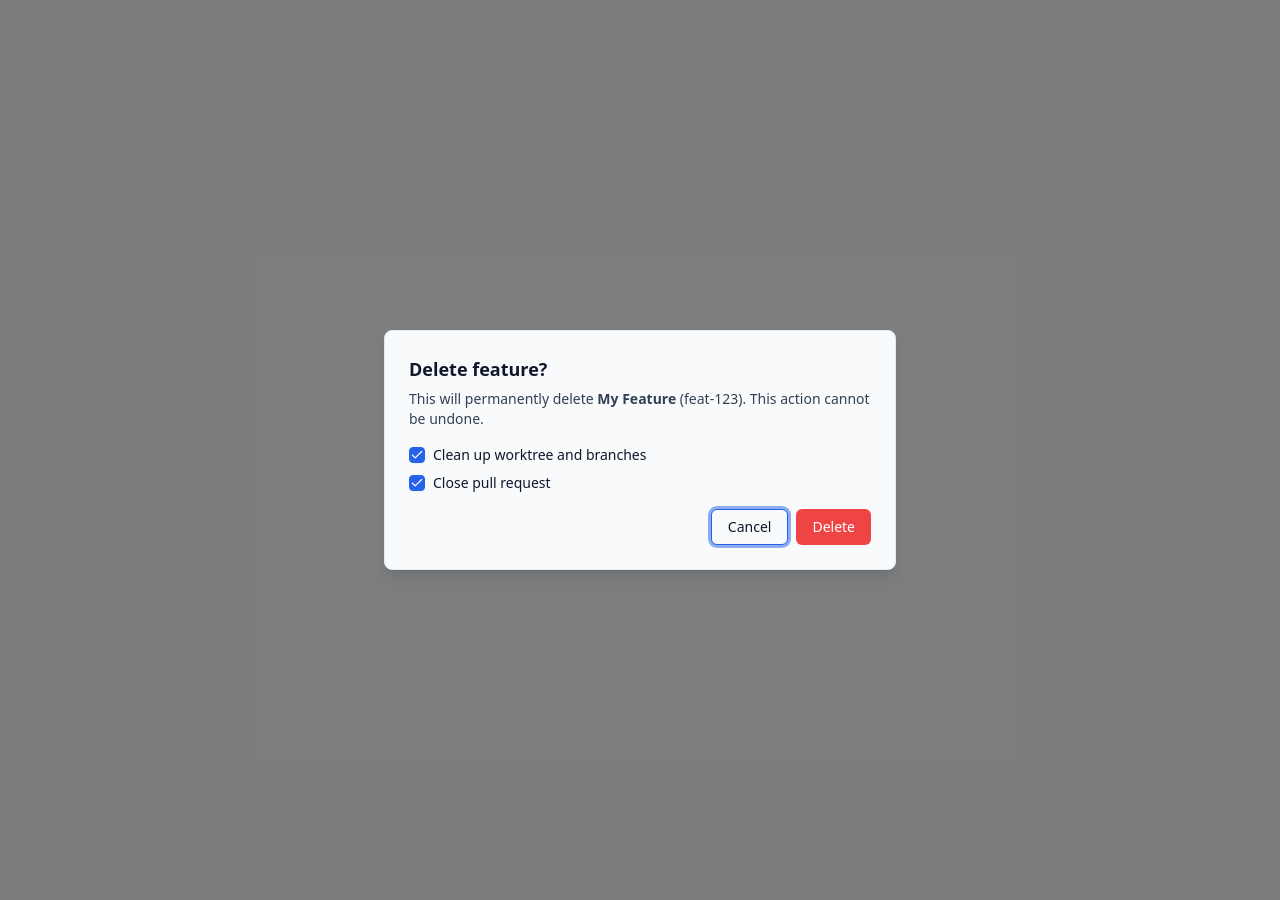
DeleteFeatureDialog › close PR checkbox › close-PR checkbox should re-enable and re-check when cleanup is re-checked
The width and height of the screenshot is (1280, 900).
Note: Uncheck cleanup
Click the checkbox named "clean up worktree and branches": (417, 455) [409,447,425,463]
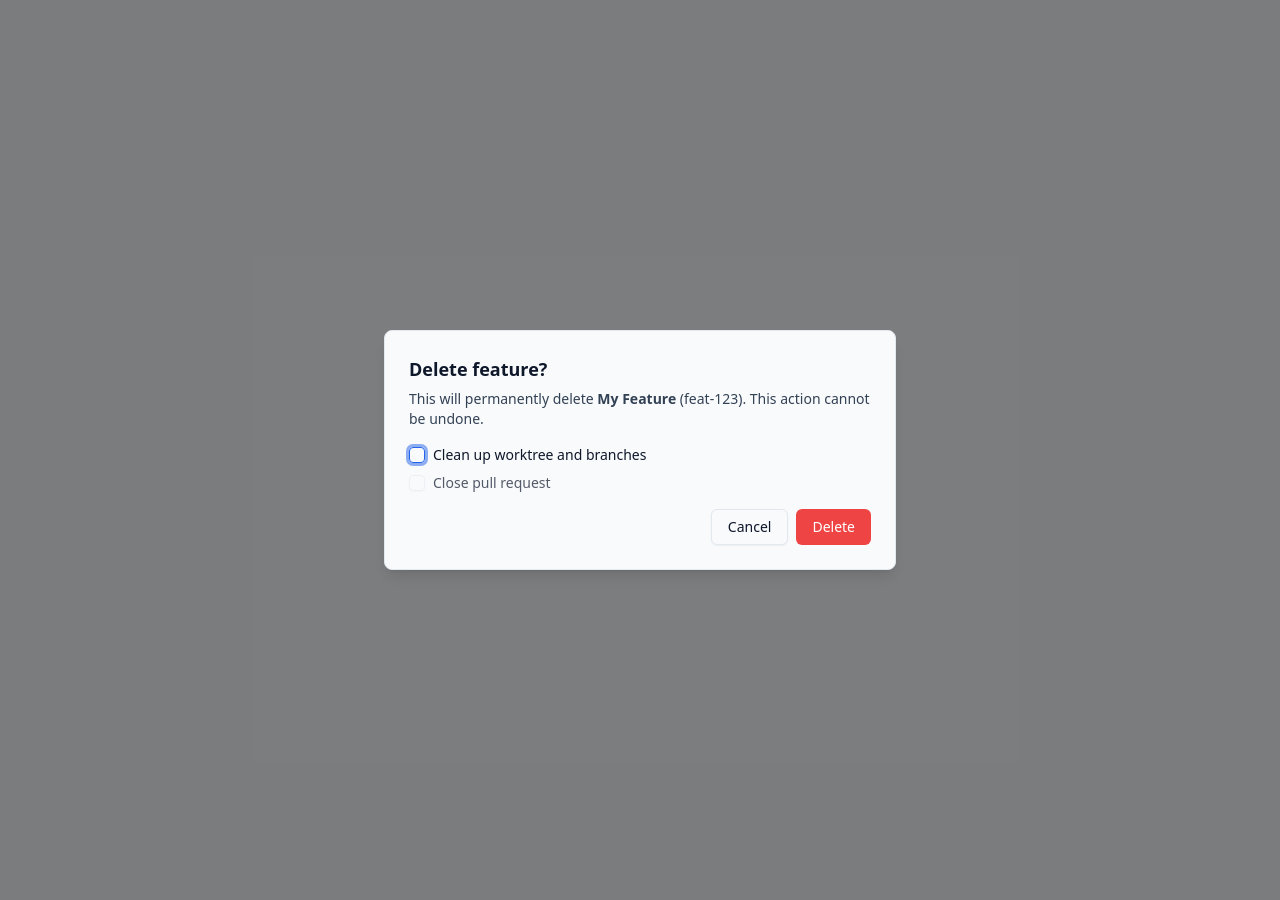
Note: Re-check cleanup
Click the checkbox named "clean up worktree and branches": (417, 455) [409,447,425,463]
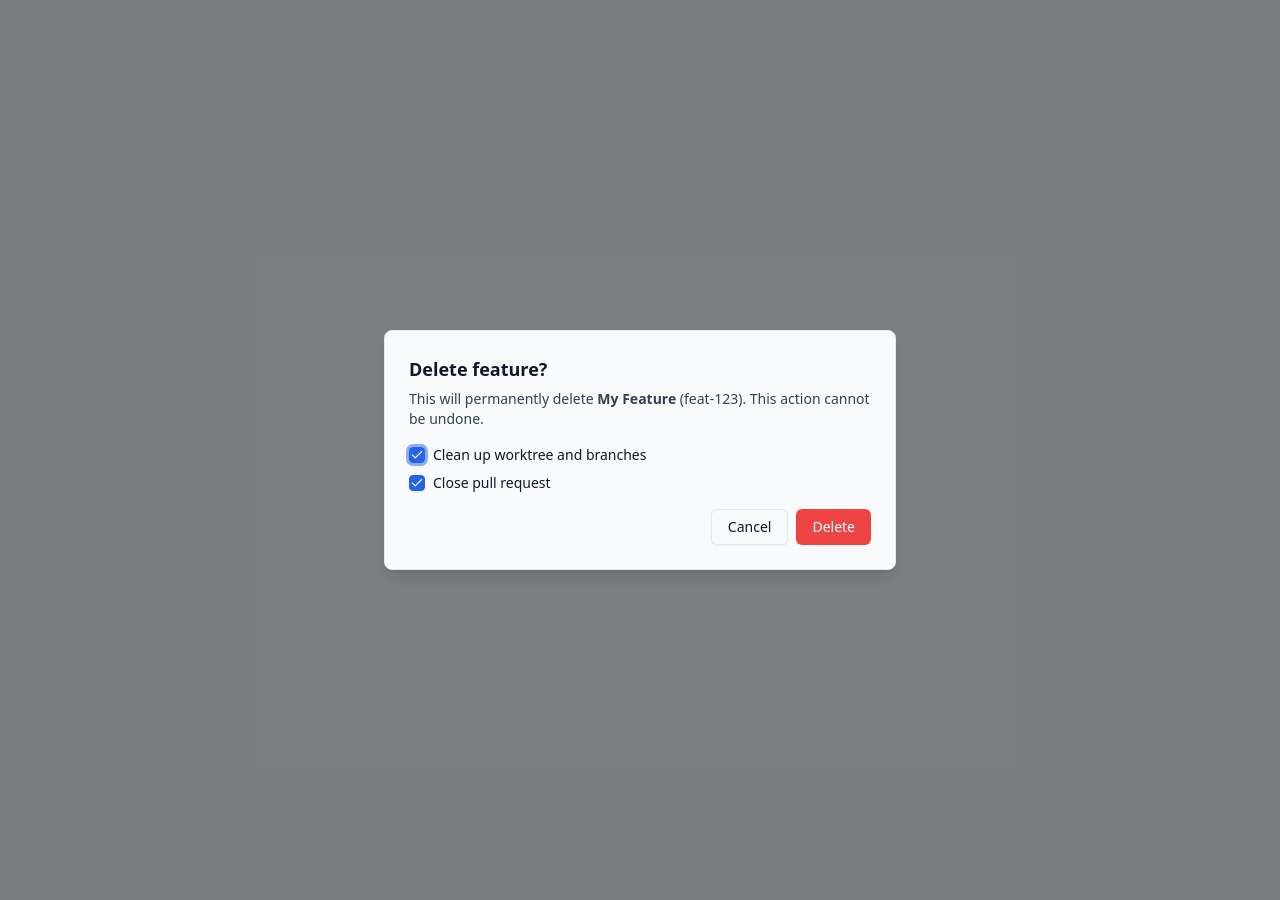
Expected: the checkbox named "close pull request" is enabled, [409,475,425,491]
